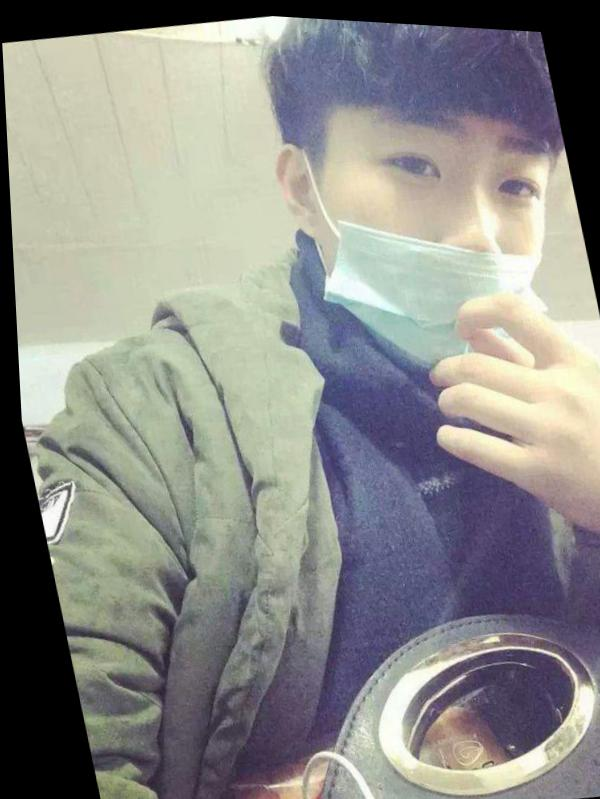WRONG: (301, 65, 588, 388)
